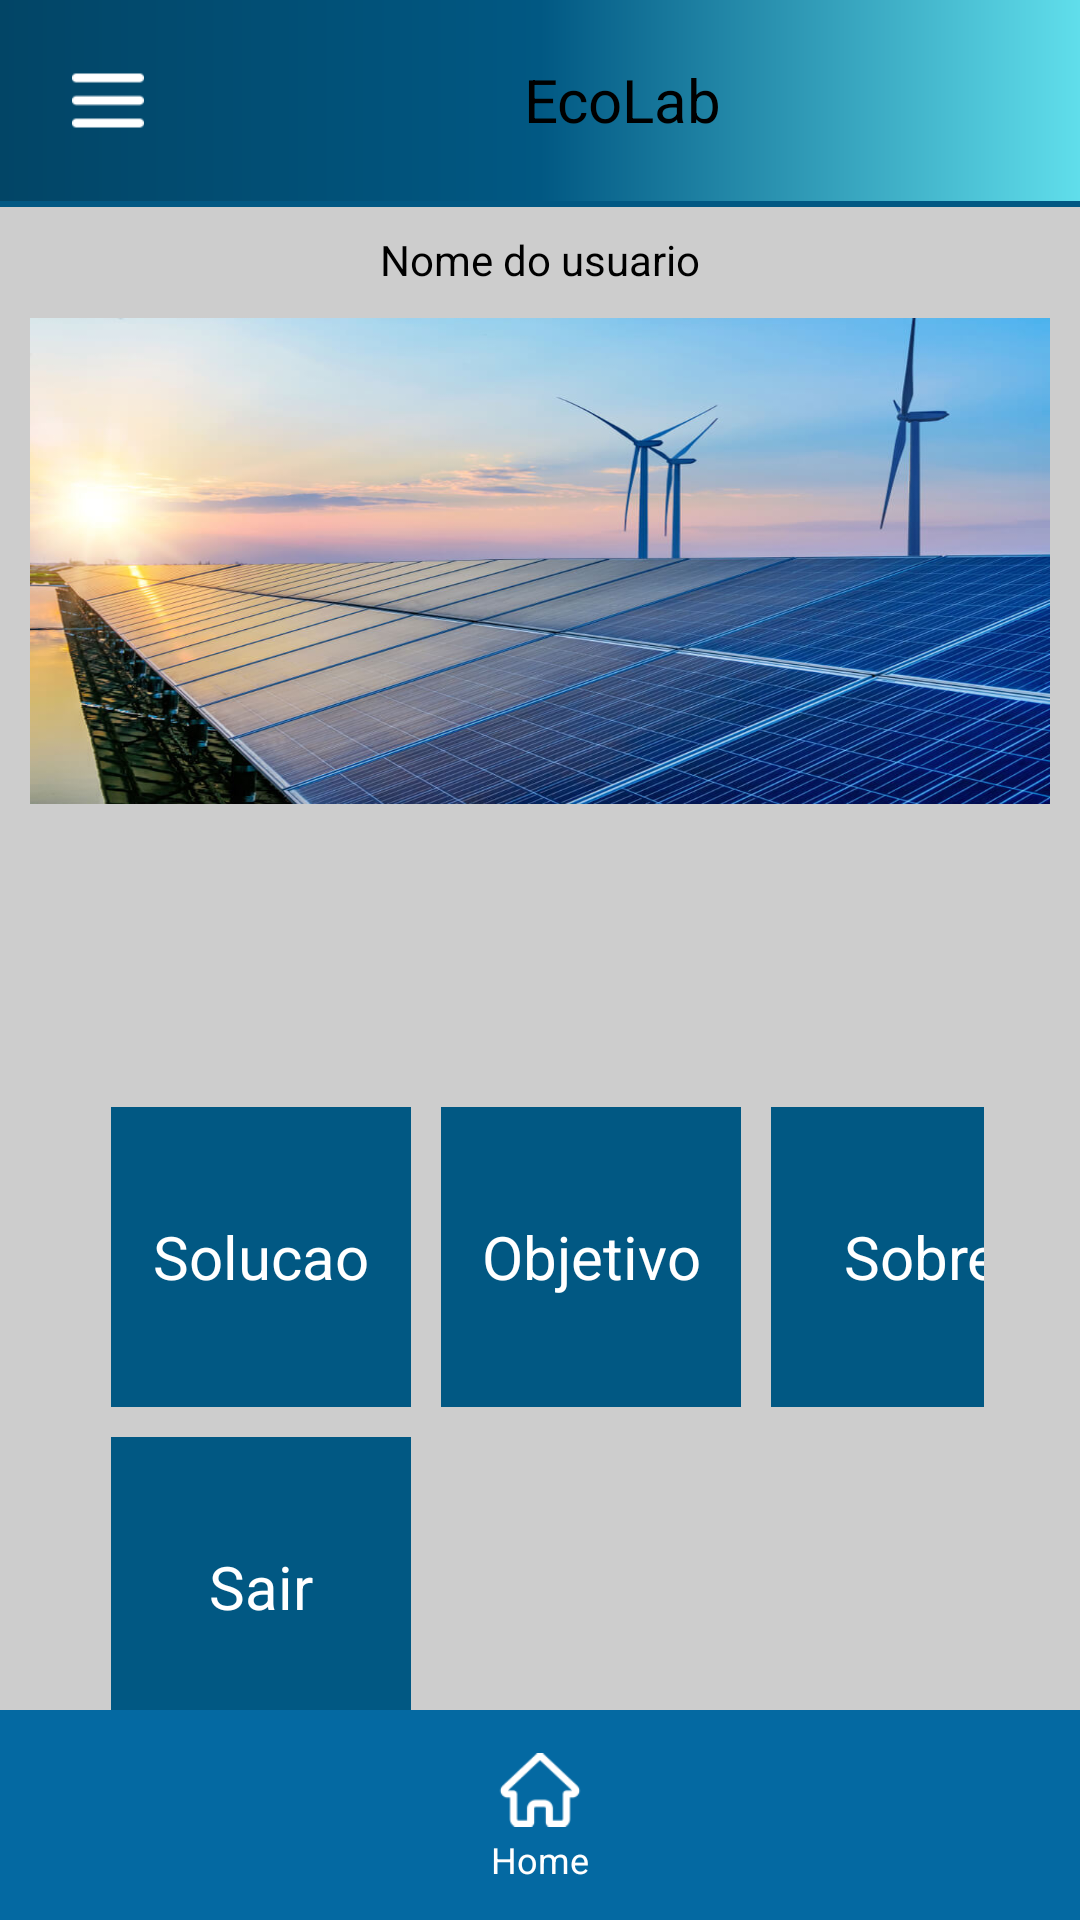

Screen size 1080px x 1920px. Icon name, then its box in pixels as (x1, y1, x2, y2):
Menu: (72, 73, 144, 128)
